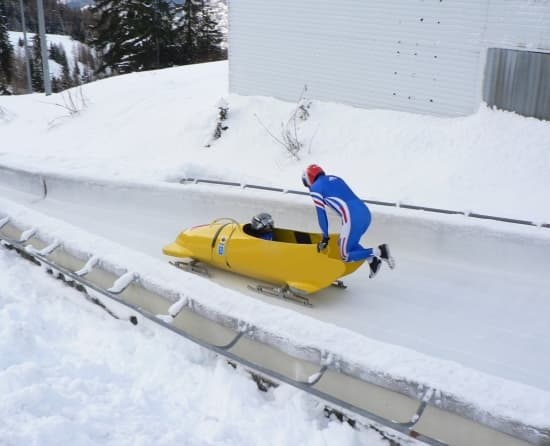Bobsleigh: (161, 216, 368, 302)
